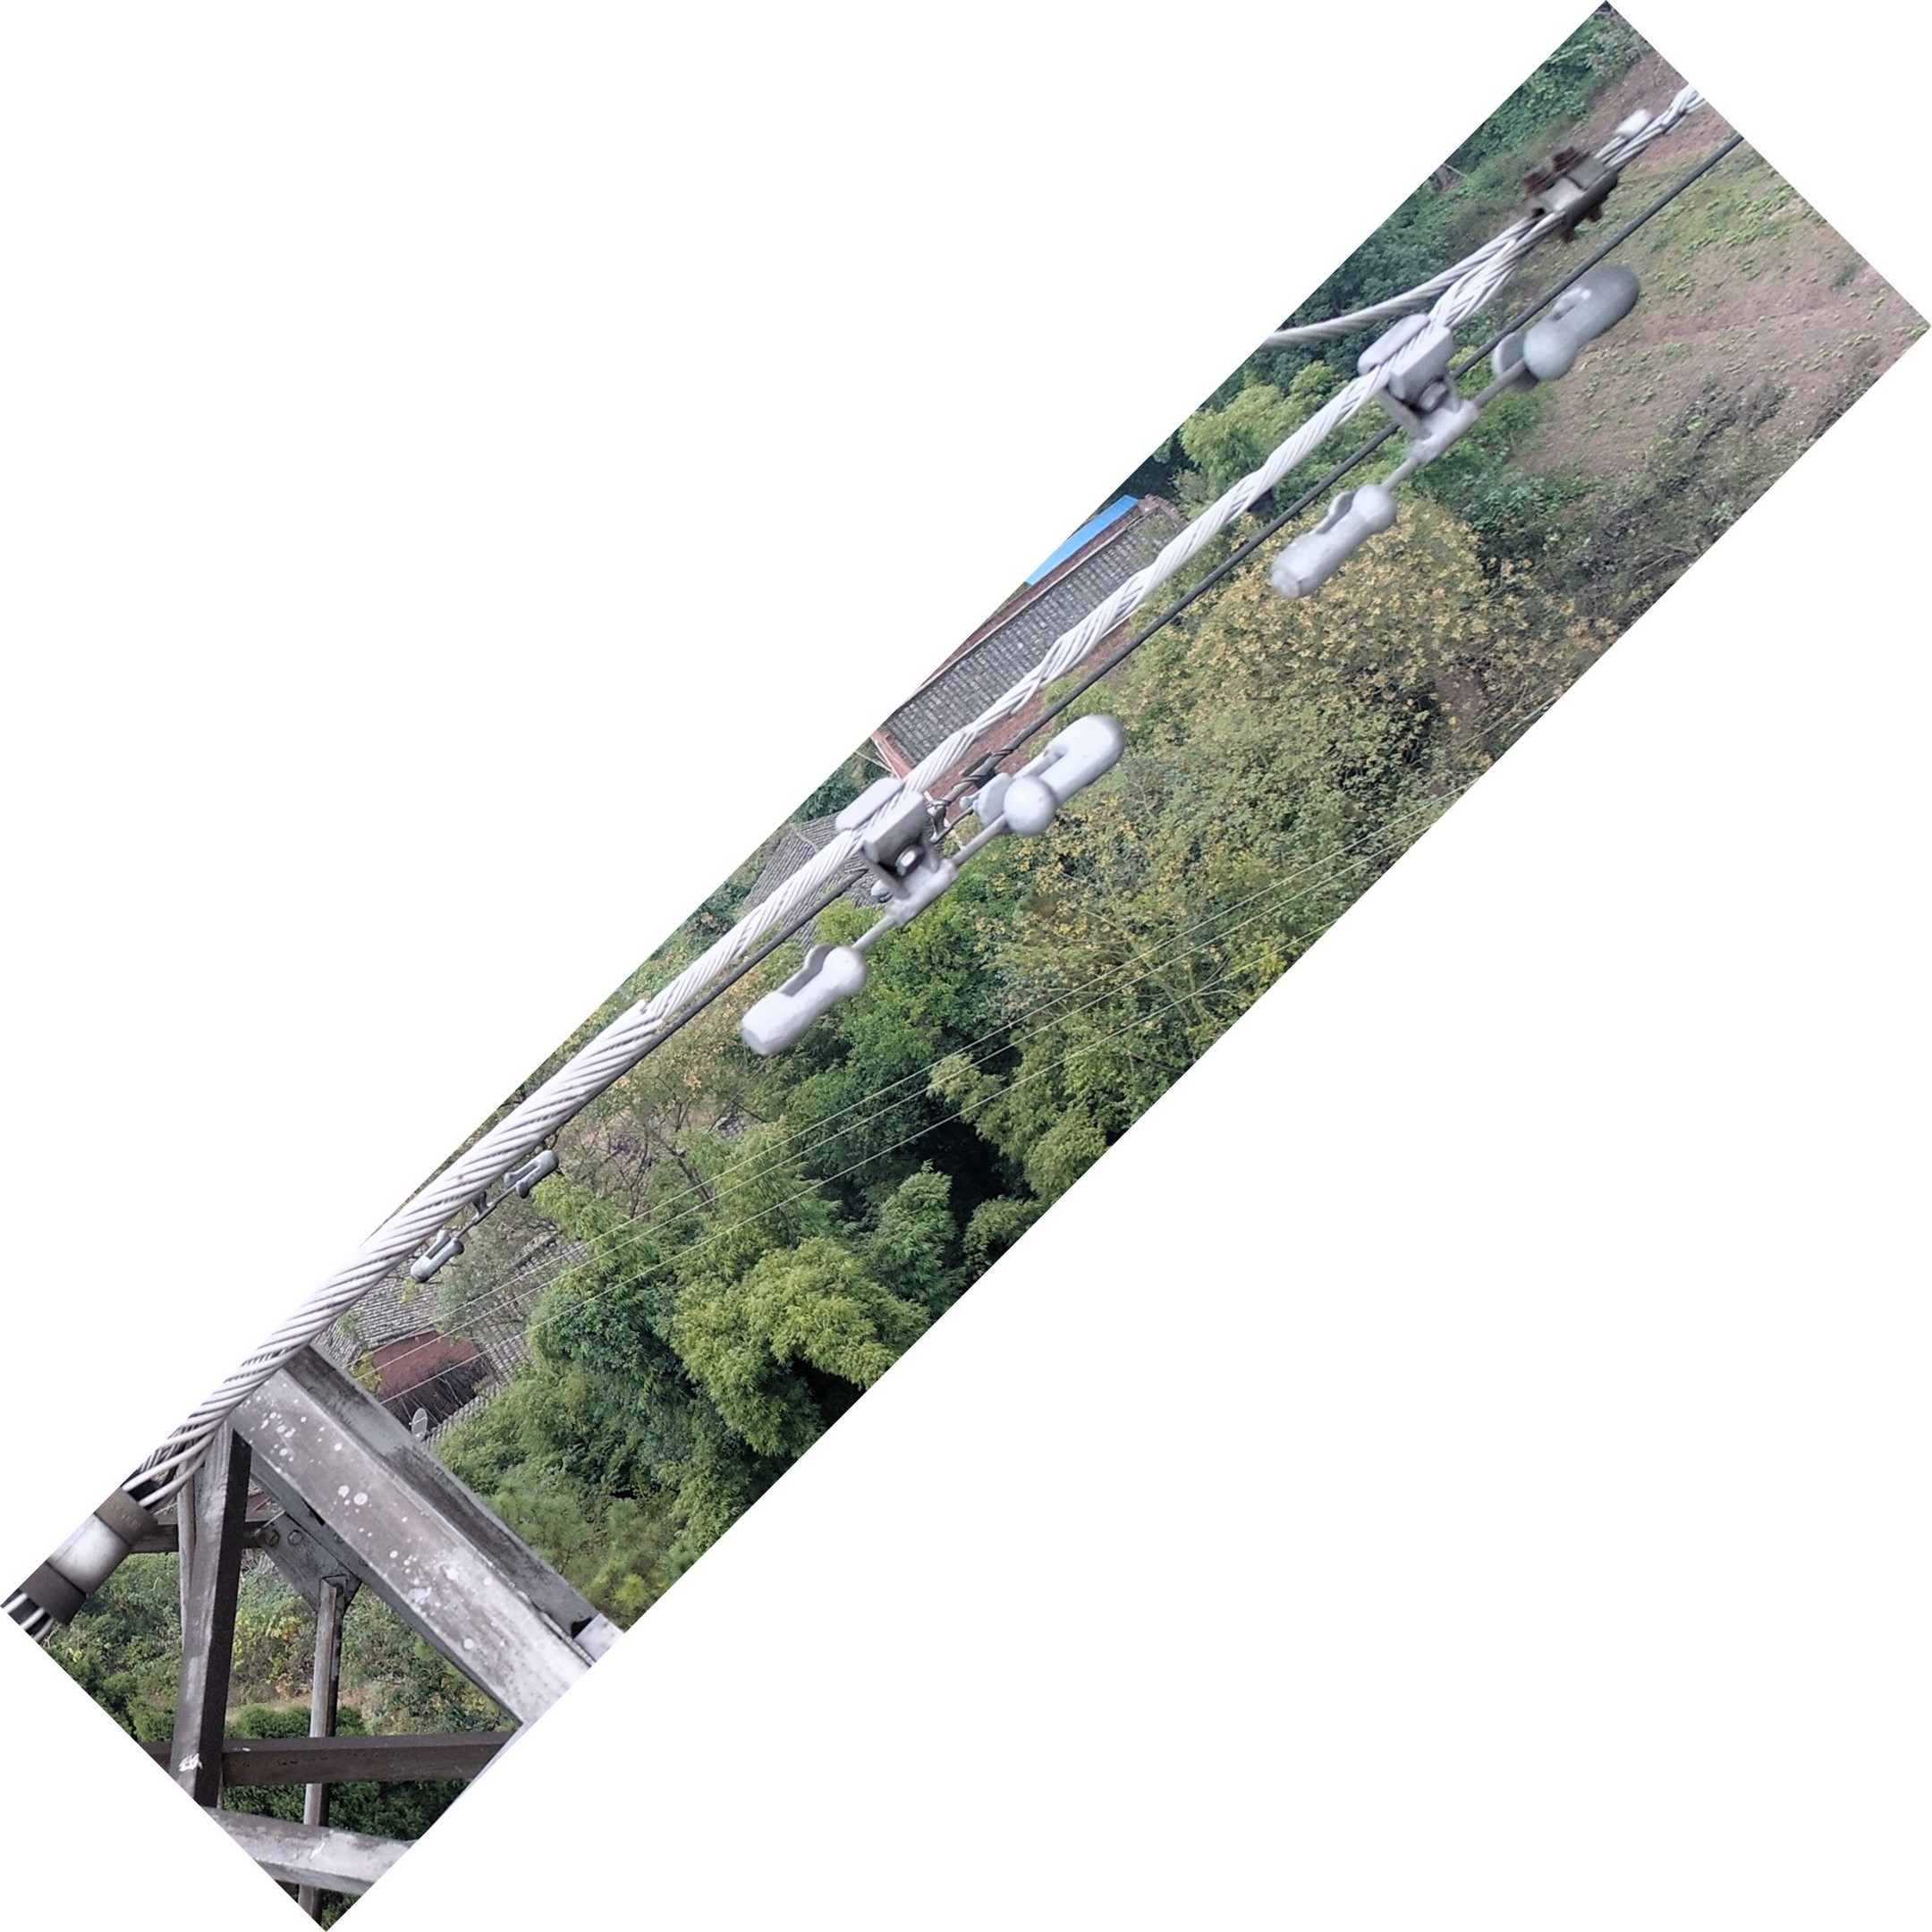Shockproof hammer: (704, 678, 1152, 1067), (1246, 255, 1672, 623)
